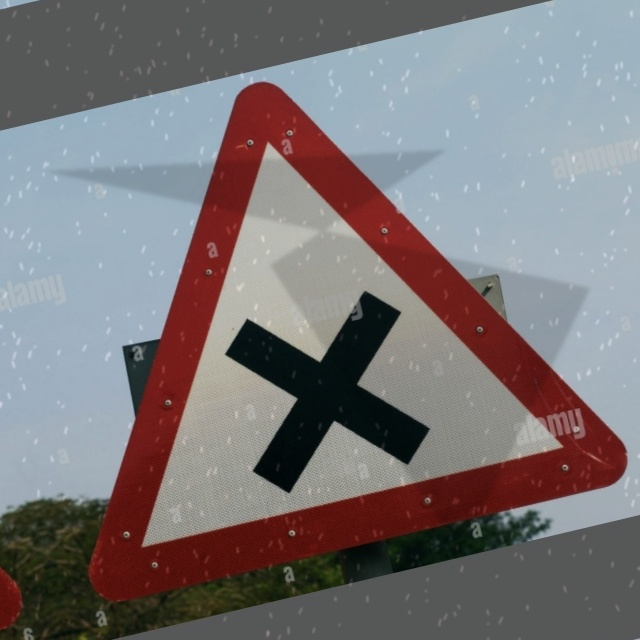Cross_Road: (31, 24, 634, 600)
